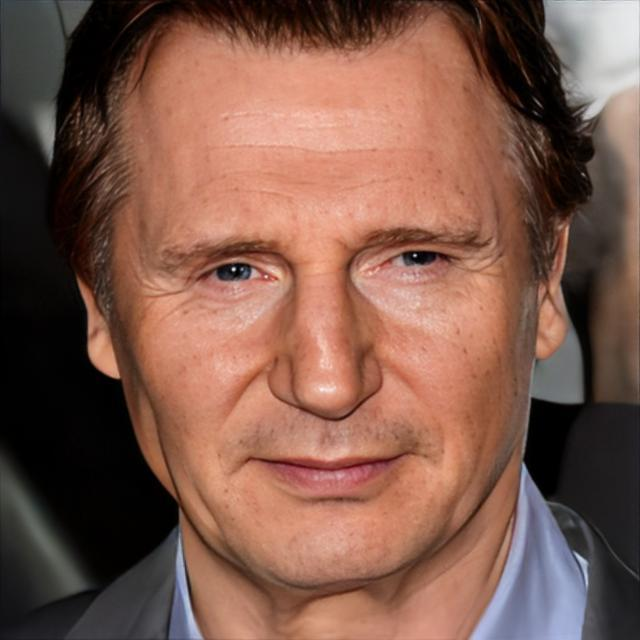neutral: (119, 29, 532, 589)
